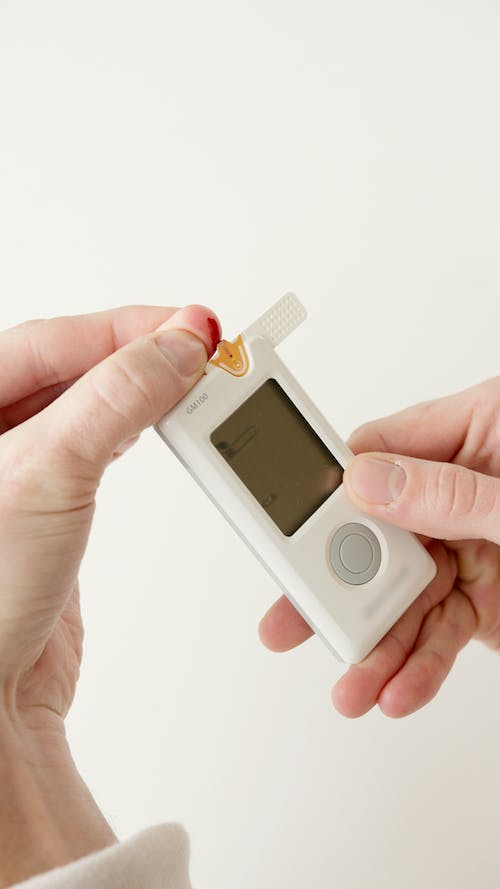blood: (204, 311, 222, 360)
